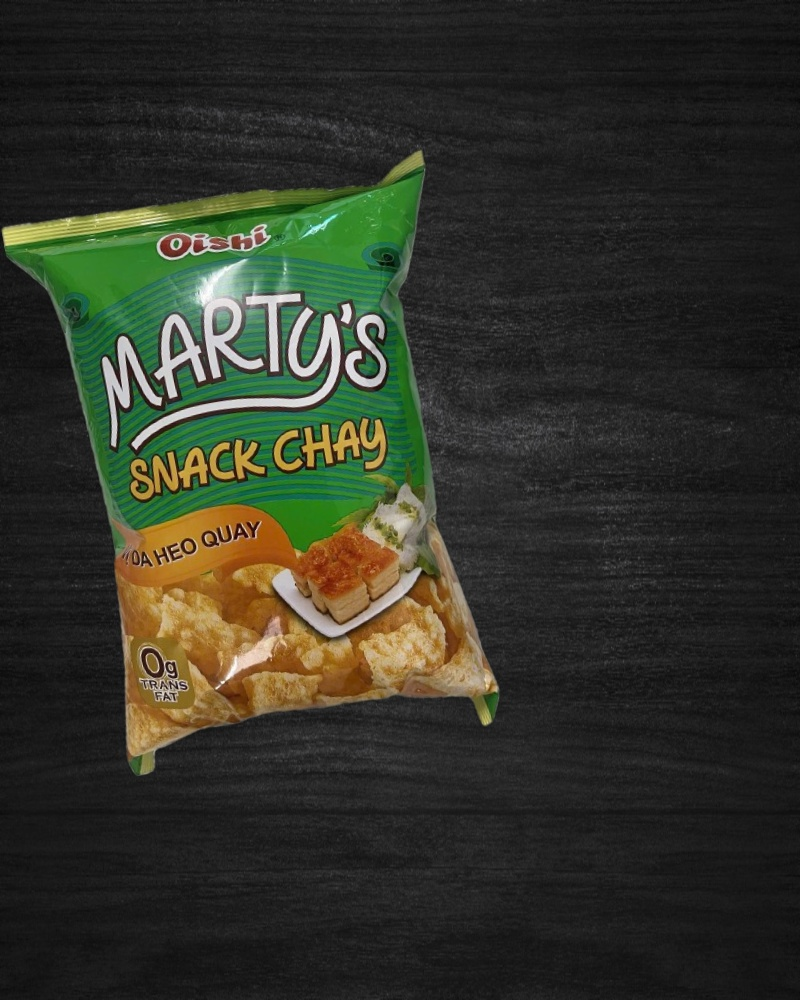Snack chay: (1, 149, 524, 795)
